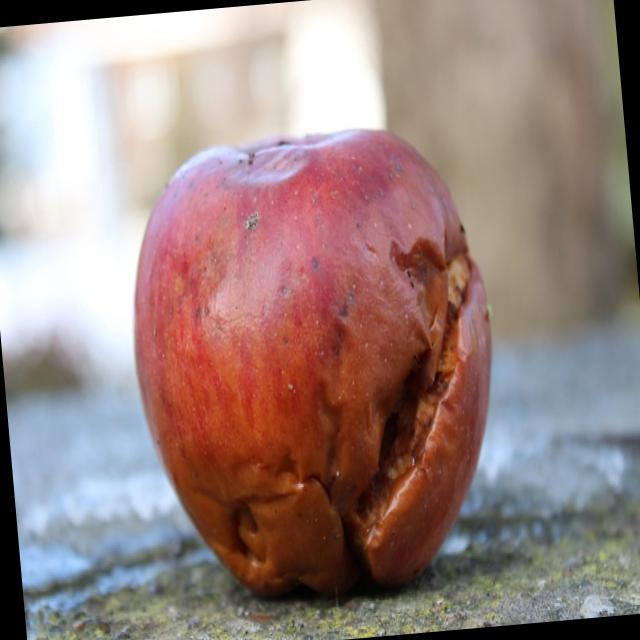apple_fruit: (123, 87, 508, 628)
